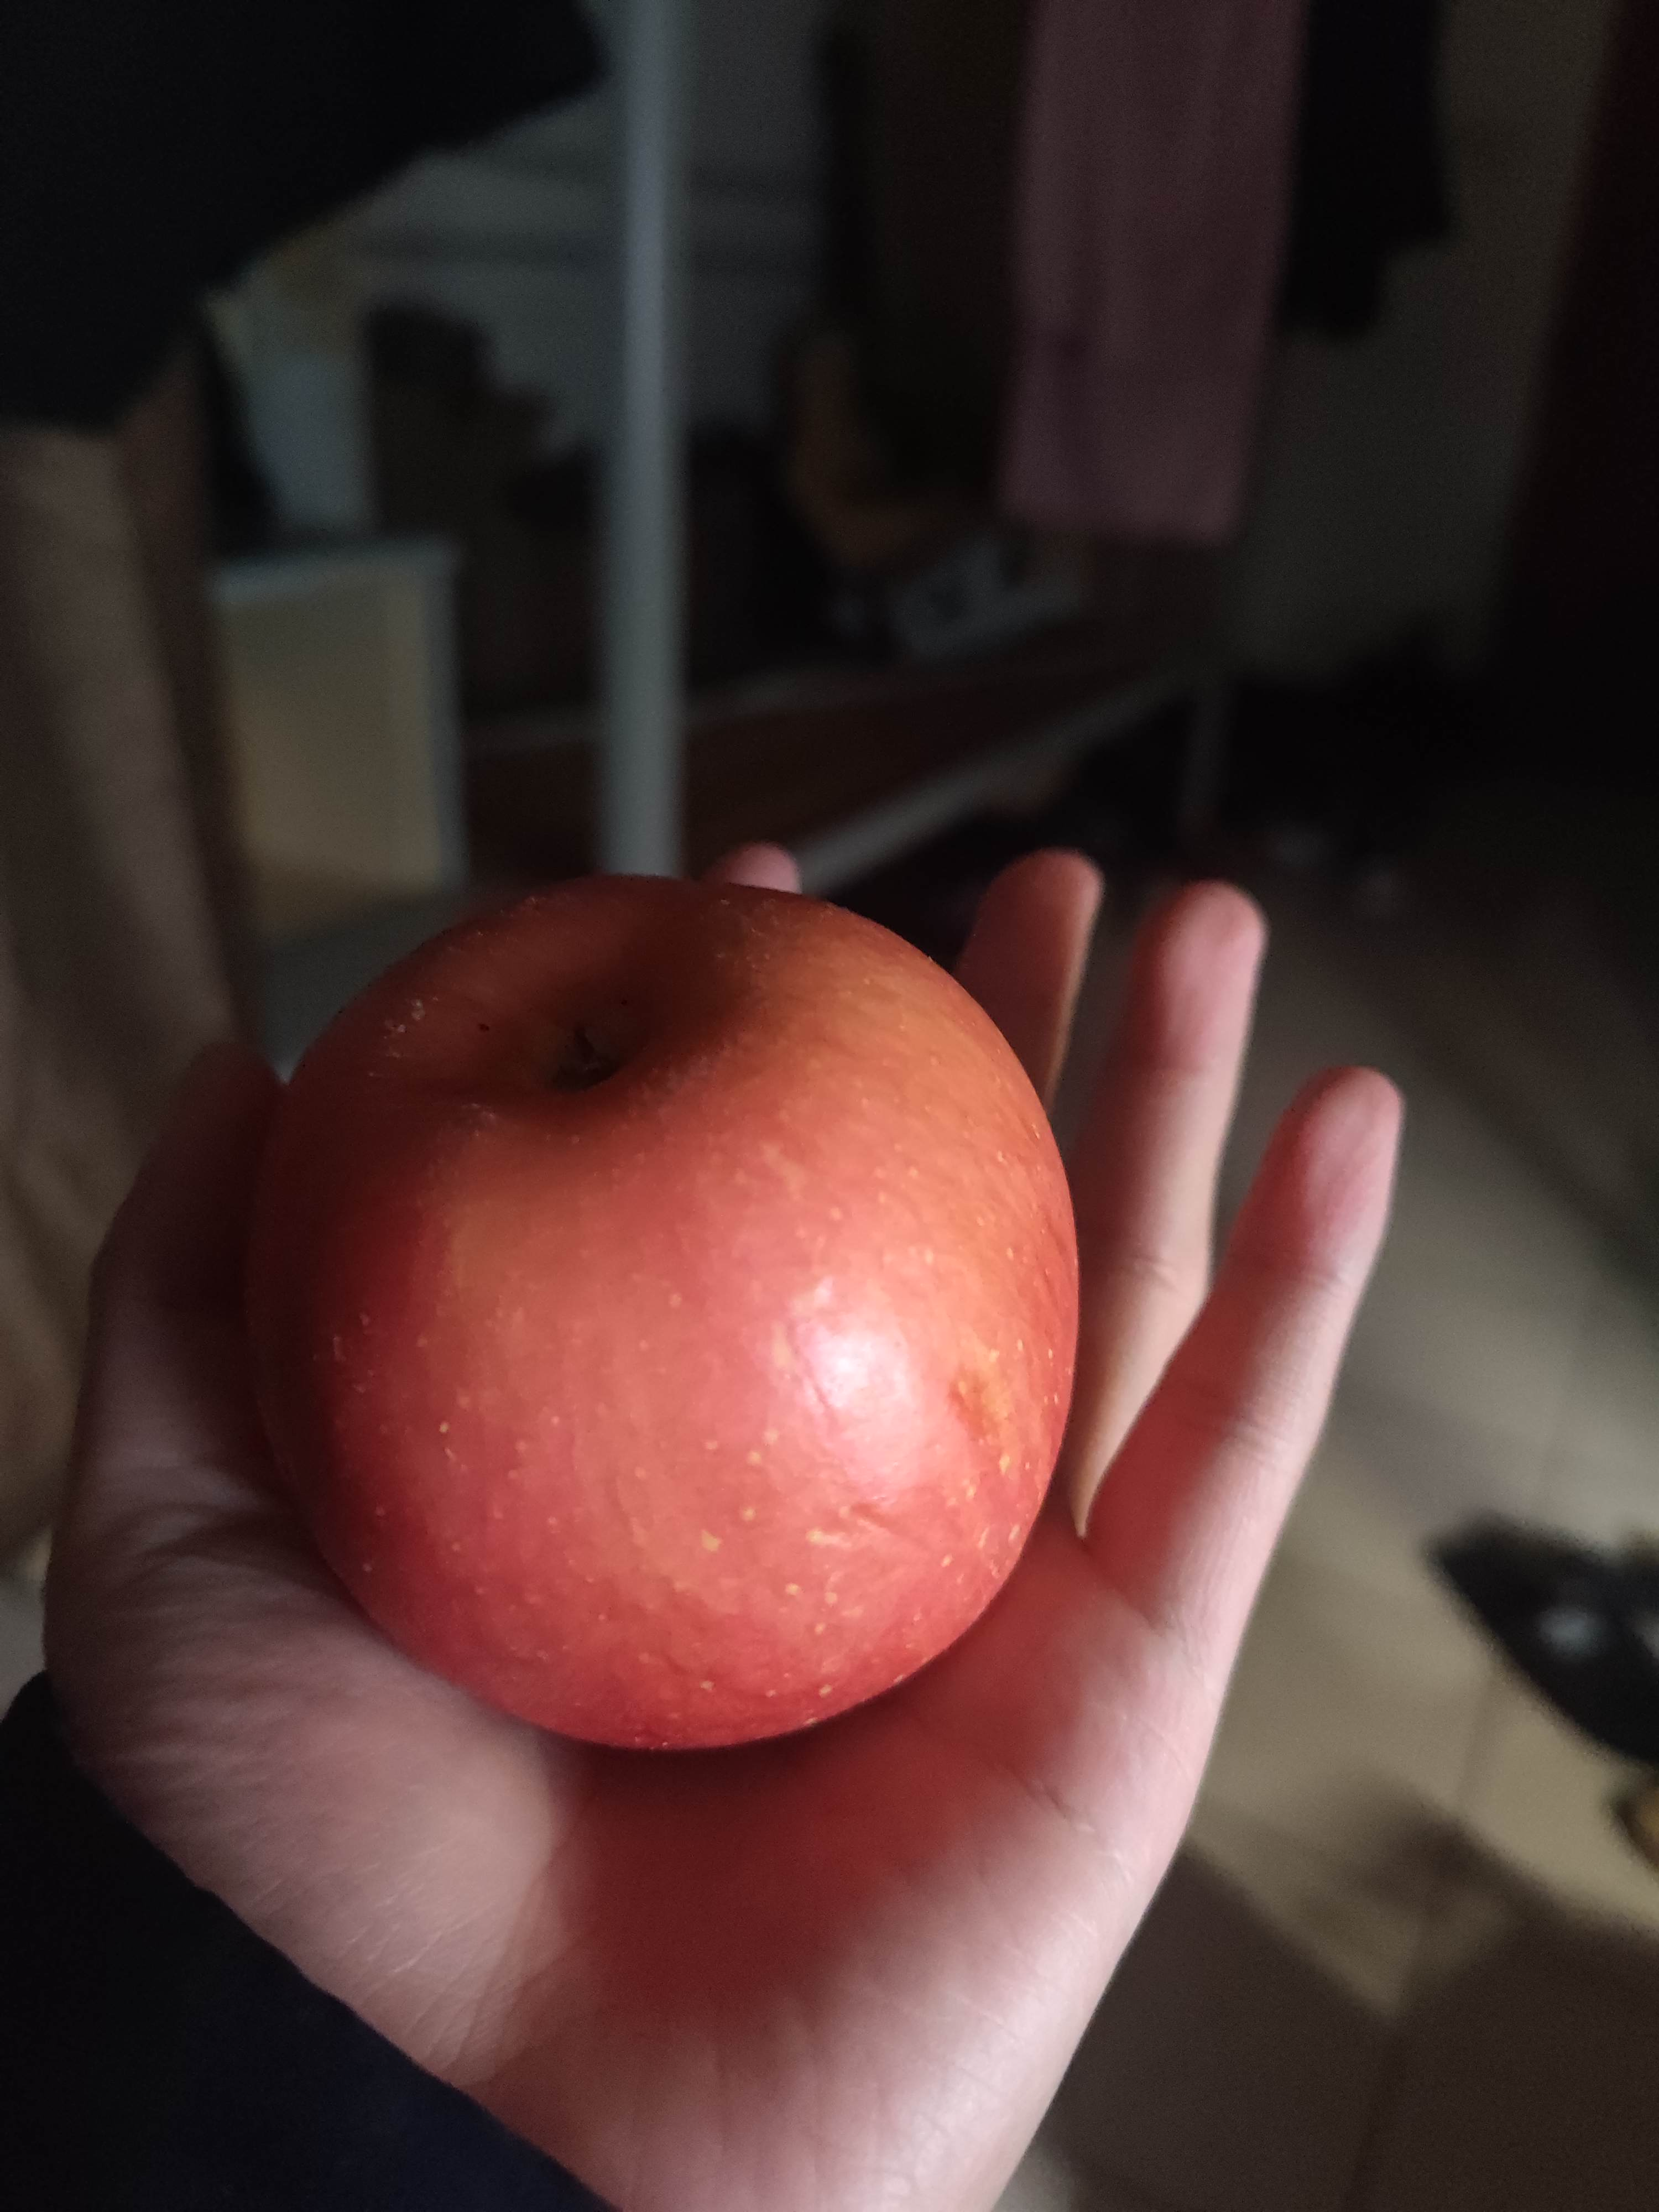apple: (277, 866, 1073, 1757)
